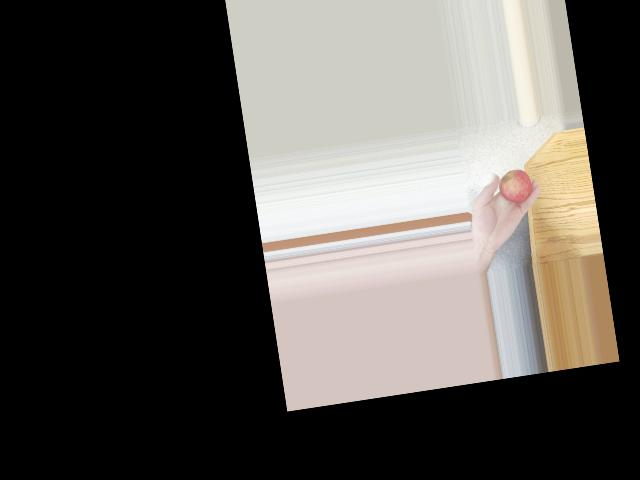apple: (494, 168, 533, 207)
